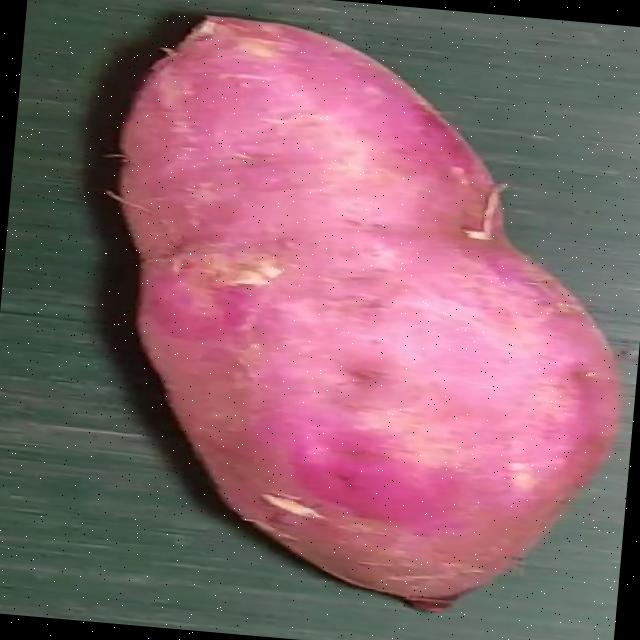Sweet Potato: (104, 13, 623, 614)
